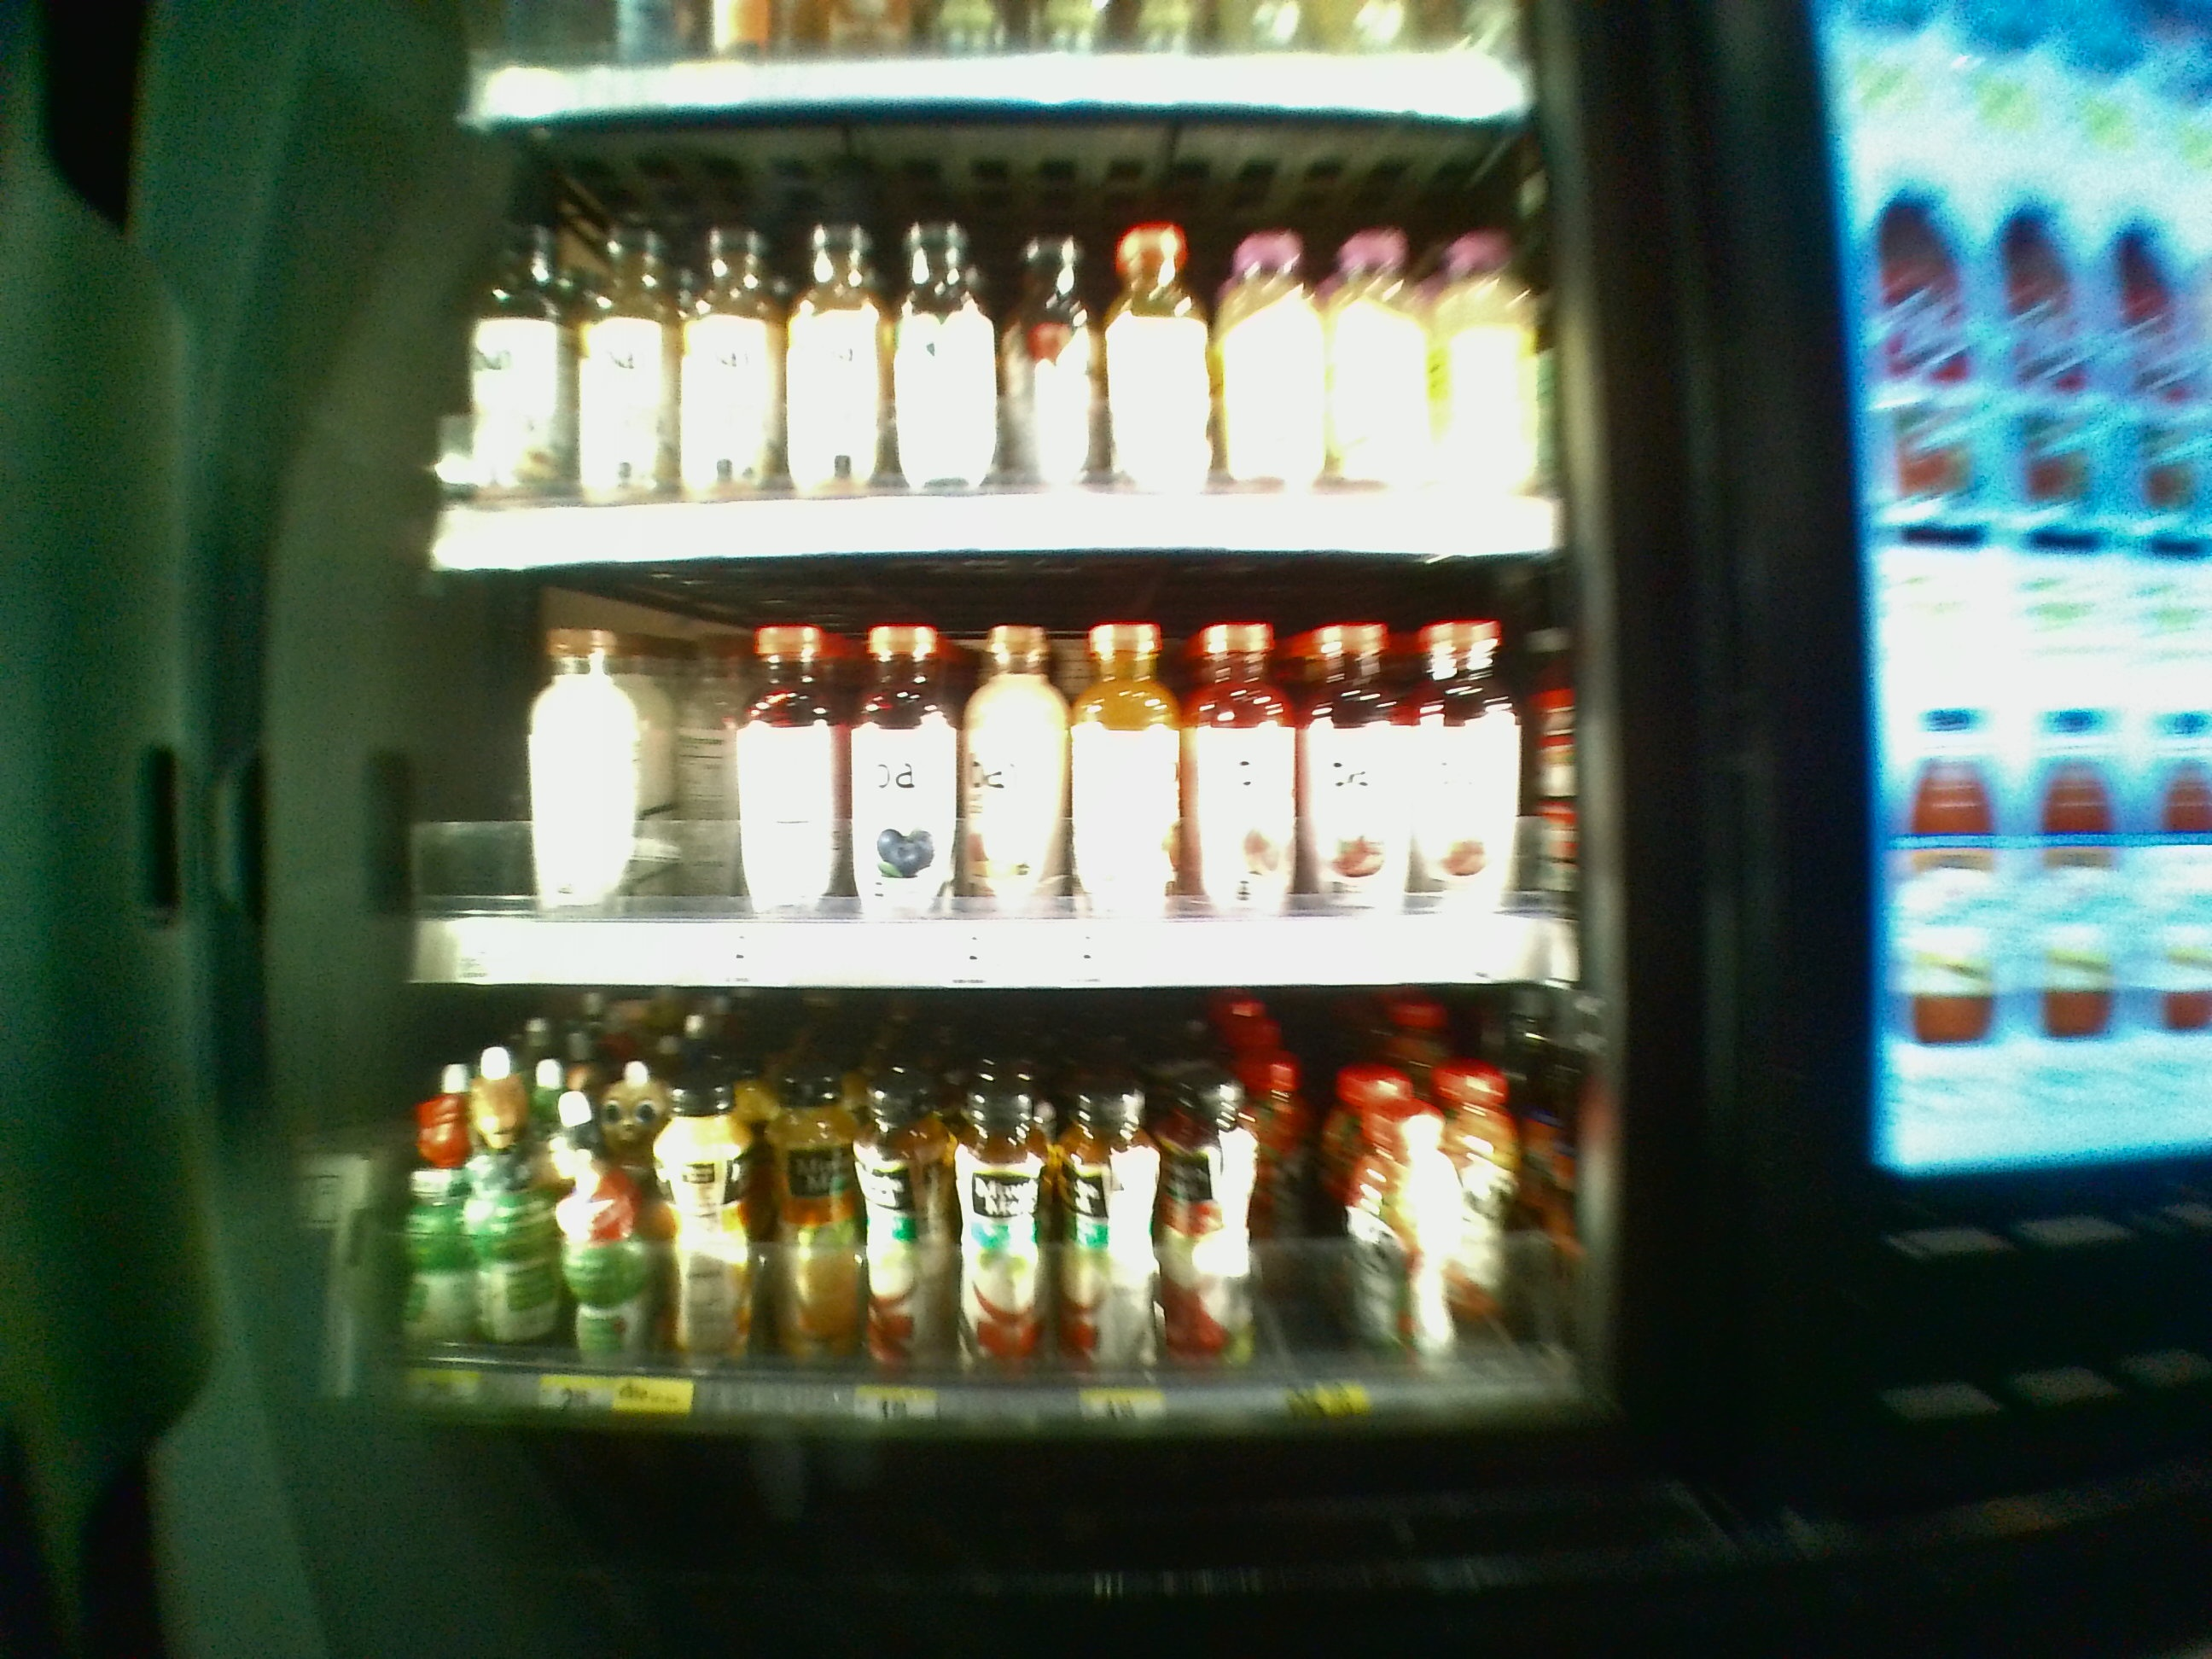shelf: (409, 988, 1587, 1493), (441, 117, 1571, 572), (406, 575, 1587, 979)
